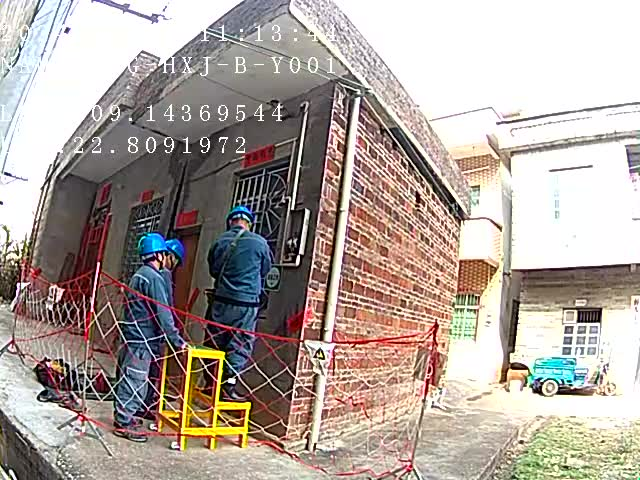halt: (142, 235, 178, 270), (228, 209, 257, 232)
